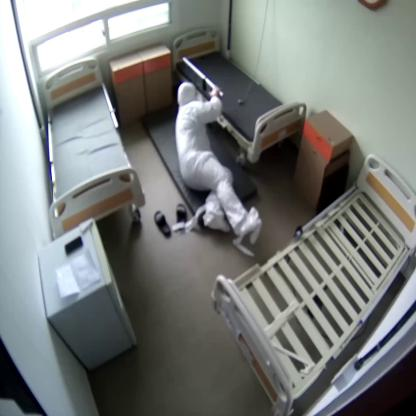Bed: (172, 28, 305, 161)
Person: (176, 83, 266, 239)
